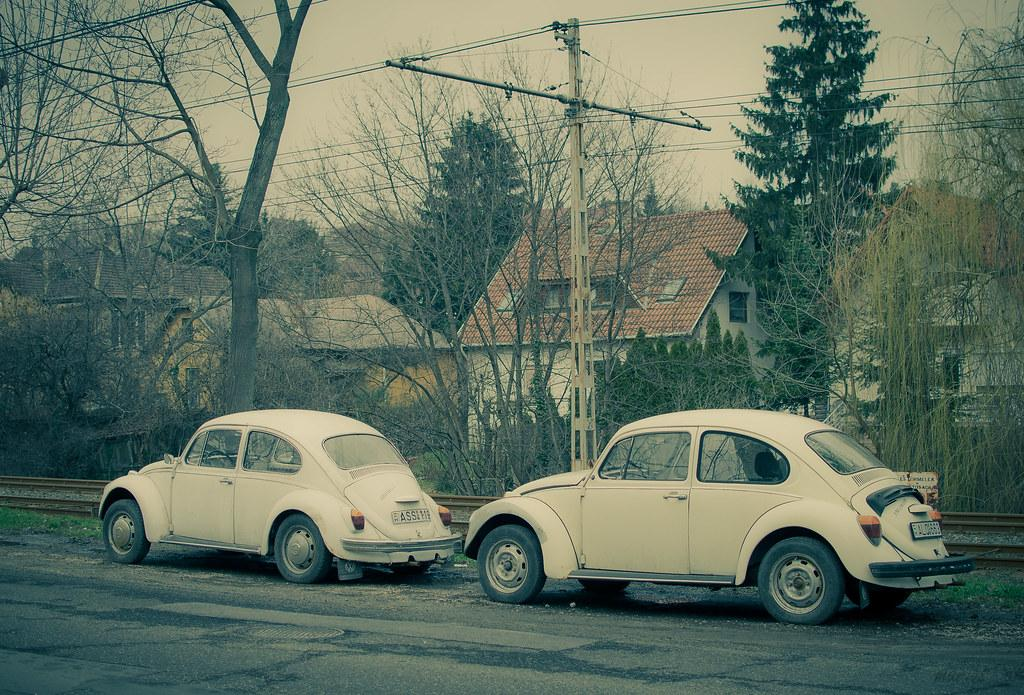car: (464, 408, 976, 626), (98, 408, 463, 585)
